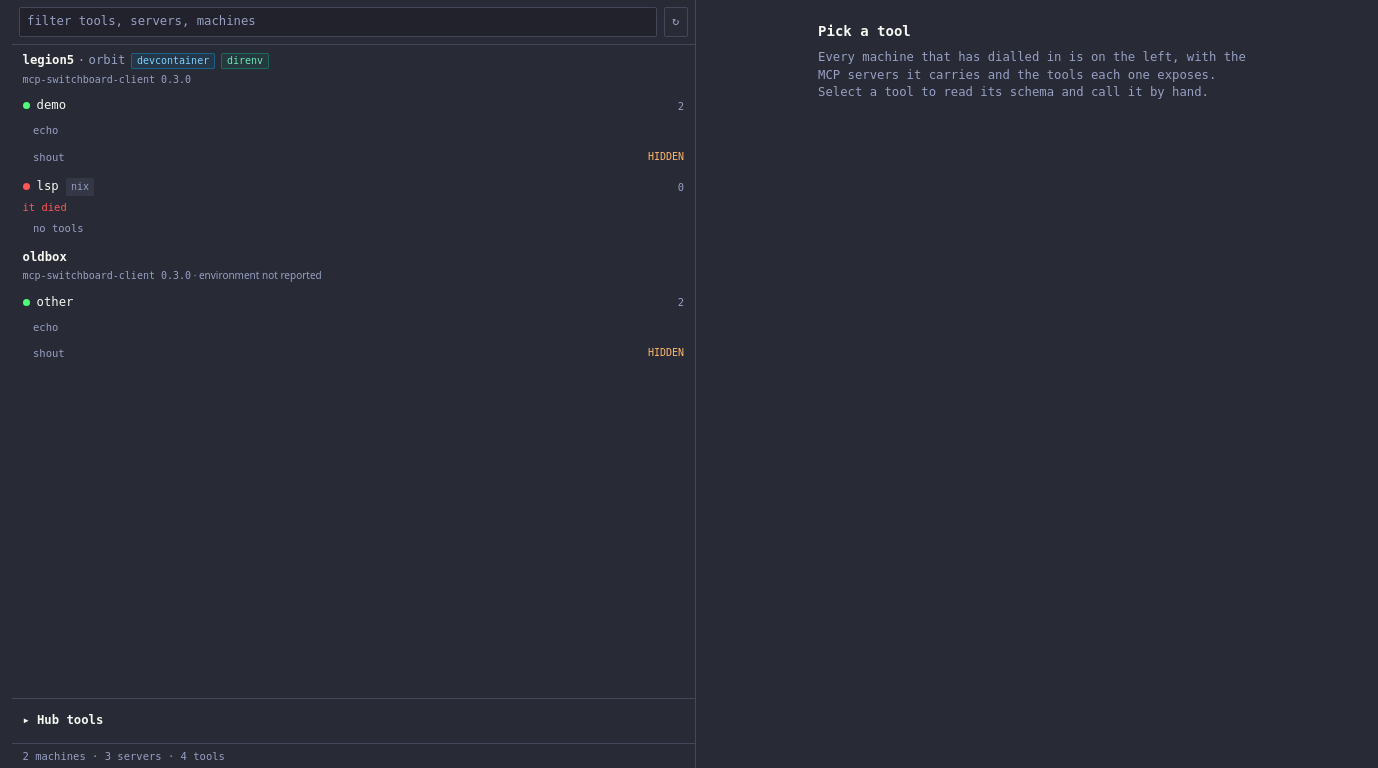
Test: Connections environment › filters by orbit
The image size is (1378, 768).
Type "orbit" into the search field with placeholder "filter tools, servers, machines" at [338, 22], box [19, 7, 657, 37]
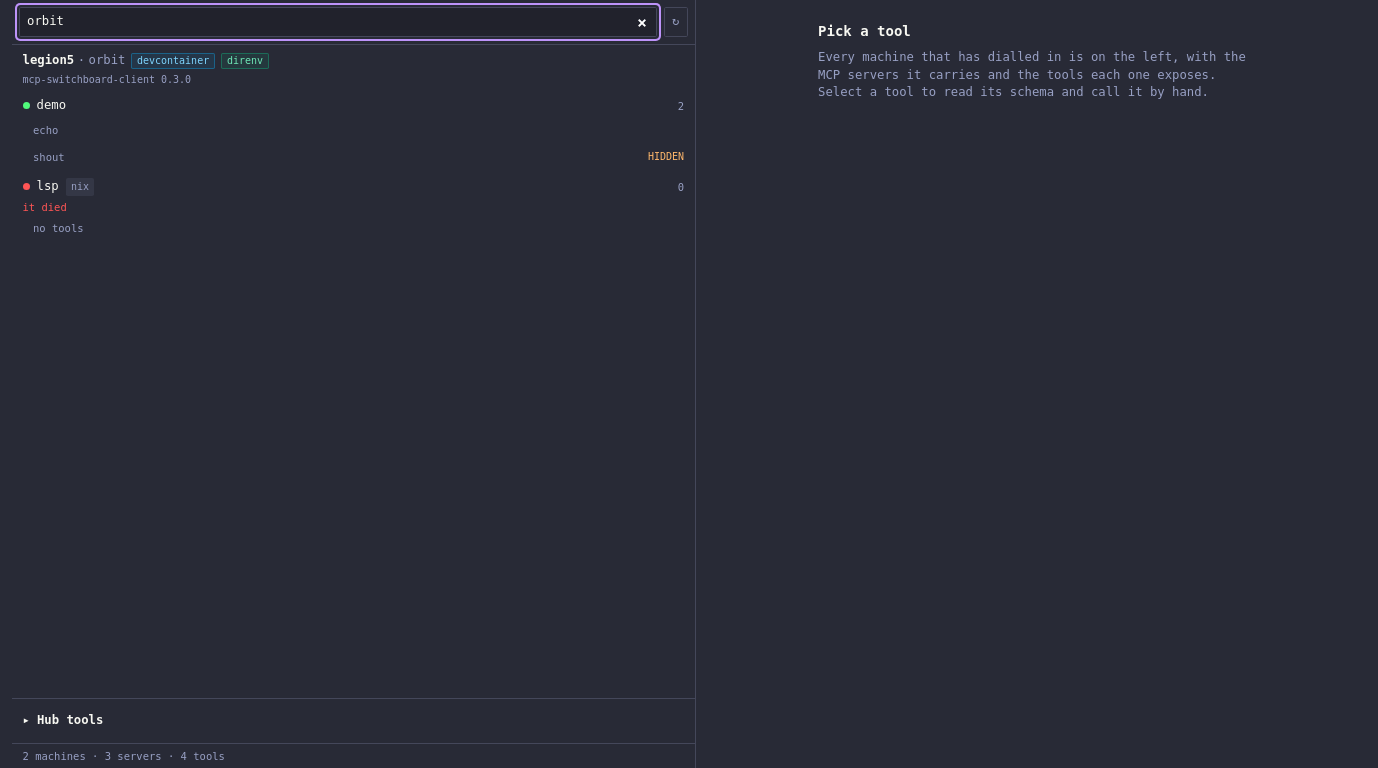
Expected: the text "orbit" is shown, [88, 52, 125, 70]
Now the text "oldbox" is gone
